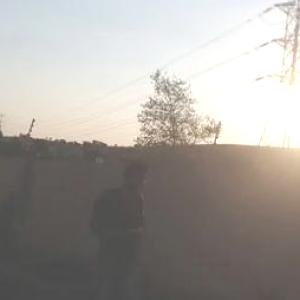follow: (87, 153, 156, 299)
